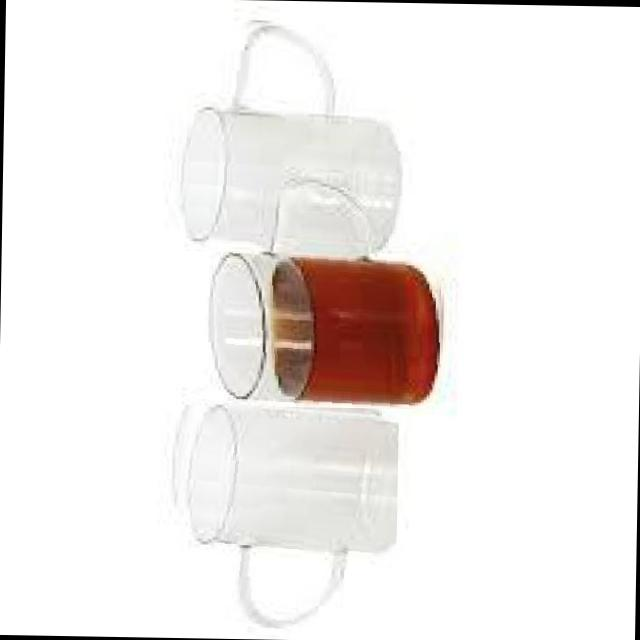Glass: (207, 166, 451, 408), (170, 16, 406, 252), (160, 398, 398, 630)
